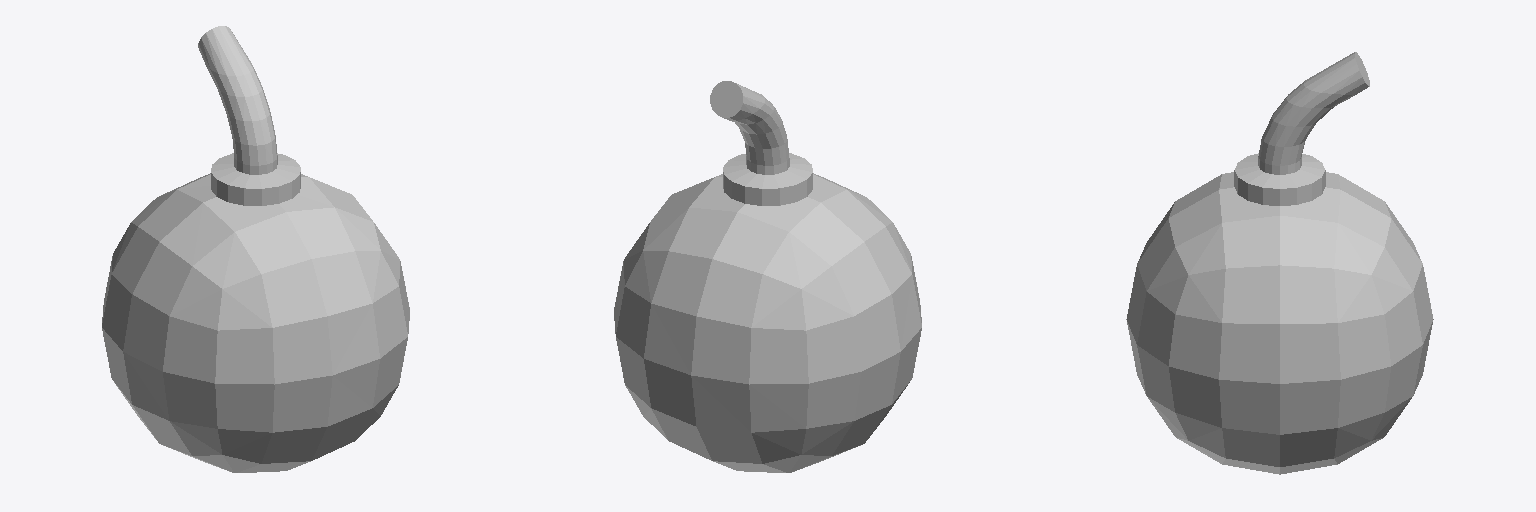
File: Bomb.obj
3 views of the same model, side by side, from view 1: azimuth 30°, elevation 25°; view 2: azimuth 150°, elevation 25°; view 3: azimuth 270°, elevation 25° (orthographic).
Visible parts, largest first — view 1: Circle.002_Circle.005; view 2: Circle.002_Circle.005; view 3: Circle.002_Circle.005.
Boxes of the visible parts, x1,y1,x2,y2 form: Circle.002_Circle.005: [102, 26, 409, 472]; Circle.002_Circle.005: [614, 81, 921, 472]; Circle.002_Circle.005: [1126, 52, 1433, 474].
Bounding box in the file's own units: 0.3668 × 0.5336 × 0.3668.